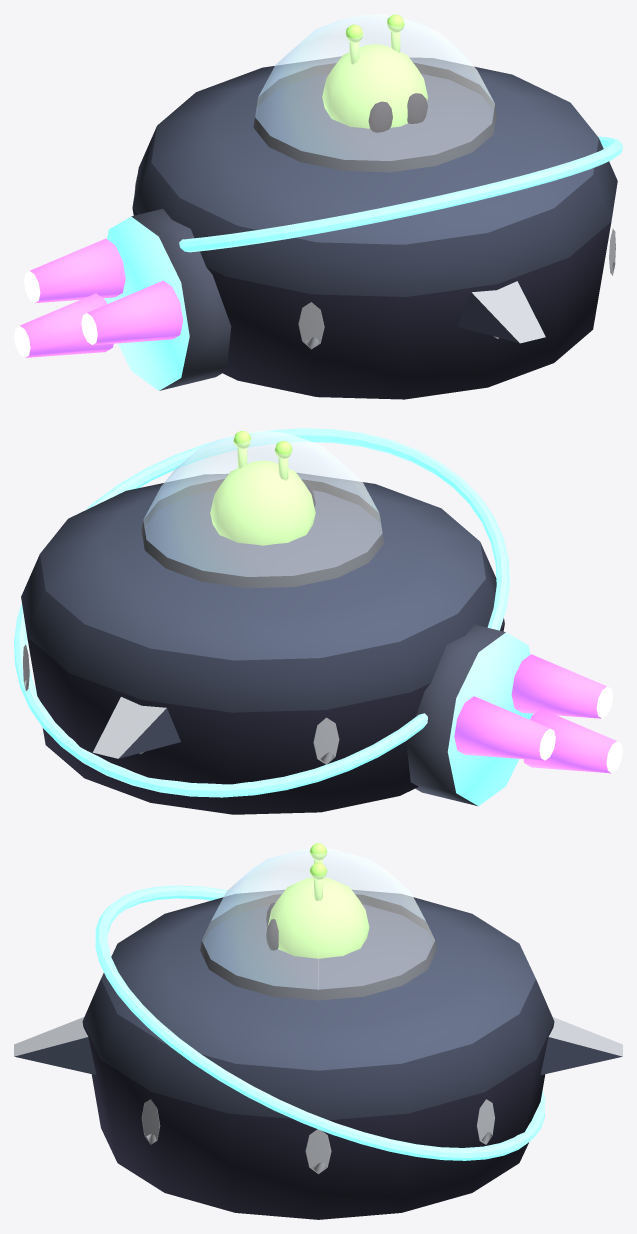
Rendered from RetroUfo.fbx.
3 views of the same model, one above another, from view 1: azimuth 30°, elevation 25°; view 2: azimuth 150°, elevation 25°; view 3: azimuth 270°, elevation 25° (orthographic). The views are drawn at different scales.
Visible parts, largest first — view 1: RetroUfo_Body, RetroUfo_Dome, RetroUfo_Engine, RetroUfo_Alien, RetroUfo_RimGroove, RetroUfo_Thruster_L, RetroUfo_Thruster_R, RetroUfo_Thruster_C, RetroUfo_Fin_L, RetroUfo_Trim; view 2: RetroUfo_Body, RetroUfo_Dome, RetroUfo_RimGroove, RetroUfo_Engine, RetroUfo_Alien, RetroUfo_Thruster_R, RetroUfo_Thruster_L, RetroUfo_Thruster_C, RetroUfo_Fin_R, RetroUfo_Trim; view 3: RetroUfo_Body, RetroUfo_Dome, RetroUfo_RimGroove, RetroUfo_Alien, RetroUfo_Fin_L, RetroUfo_Fin_R, RetroUfo_Trim.
Boxes of the visible parts, x1,y1,x2,y2 form: RetroUfo_Body: (132,56,617,399); RetroUfo_Dome: (253,14,496,172); RetroUfo_Engine: (104,208,231,390); RetroUfo_Alien: (322,14,427,132); RetroUfo_RimGroove: (179,136,622,252); RetroUfo_Thruster_L: (81,280,182,345); RetroUfo_Thruster_R: (24,238,125,303); RetroUfo_Thruster_C: (14,293,113,357); RetroUfo_Fin_L: (457,281,545,343); RetroUfo_Trim: (134,175,615,349); RetroUfo_Body: (21,473,504,814); RetroUfo_Dome: (141,431,384,588); RetroUfo_RimGroove: (14,428,509,797); RetroUfo_Engine: (406,624,532,806); RetroUfo_Alien: (210,431,315,545); RetroUfo_Thruster_R: (454,696,555,760); RetroUfo_Thruster_L: (511,654,612,718); RetroUfo_Thruster_C: (523,709,622,773); RetroUfo_Fin_R: (93,697,180,758); RetroUfo_Trim: (22,644,339,764); RetroUfo_Body: (82,890,554,1219); RetroUfo_Dome: (200,848,436,1000); RetroUfo_RimGroove: (95,885,545,1160); RetroUfo_Alien: (266,843,369,958); RetroUfo_Fin_L: (14,1017,96,1074); RetroUfo_Fin_R: (540,1017,622,1074); RetroUfo_Trim: (141,1099,495,1173).
Size of the model in its own units: 330 by 168 by 315.
